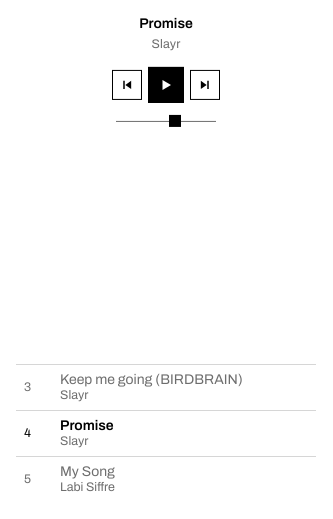
it: AudioRing › changing song › plays a song when it is clicked
This screenshot has width=333, height=519.
Click the option "5 My Song Labi Siffre" at coordinates (87, 471), box x1=16 y1=456 x2=316 y2=502
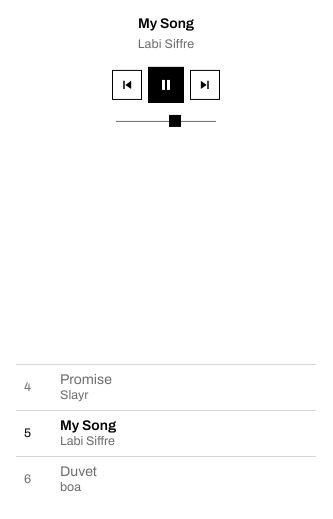
Now the text with class "ring-title" reads "My Song", box x1=138 y1=16 x2=194 y2=31
